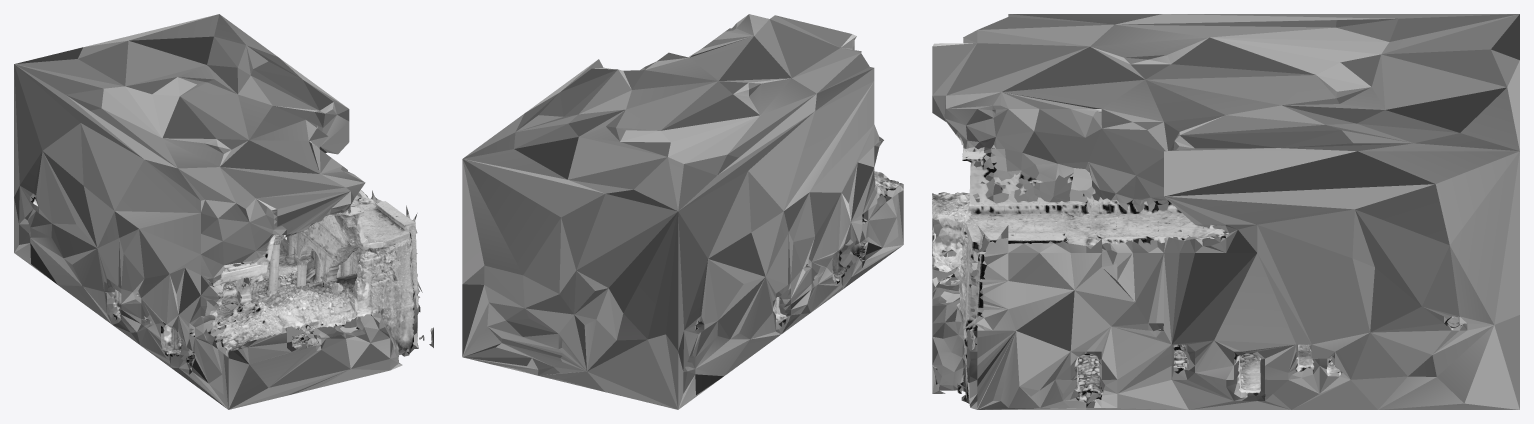
Rendered from church.glb.
3 renders of one model, left to right at view 1: azimuth 30°, elevation 25°; view 2: azimuth 150°, elevation 25°; view 3: azimuth 270°, elevation 25°, orthographic. The views are drawn at different scales.
Visible parts, largest first — view 1: church; view 2: church; view 3: church.
Boxes of the visible parts, <box> form: church: <box>14,14,433,409</box>; church: <box>462,14,903,409</box>; church: <box>932,14,1519,409</box>.
Size of the model in its own units: 47.34 by 41.44 by 85.28.
Materials: 1 (1 with a texture image).
